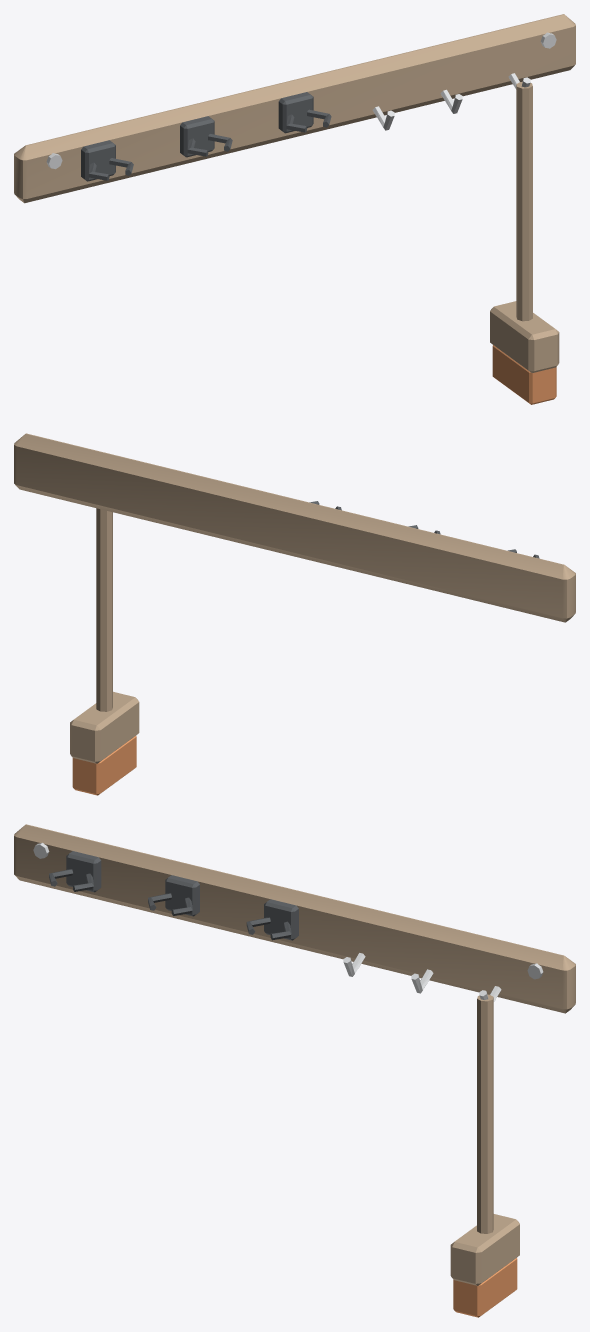
File: home-appliances-and-utility-wall-tool-rail-2a203aad__14161.glb
3 renders of one model, top to bottom at view 1: azimuth 30°, elevation 25°; view 2: azimuth 150°, elevation 25°; view 3: azimuth 330°, elevation 25°, orthographic.
Visible parts, largest first — view 1: wall-tool-rail; view 2: wall-tool-rail; view 3: wall-tool-rail.
Boxes of the visible parts, left/top/right/bottom form: wall-tool-rail: left=14, top=14, right=575, bottom=404; wall-tool-rail: left=14, top=433, right=575, bottom=795; wall-tool-rail: left=14, top=824, right=575, bottom=1317.
Bounding box in the file's own units: 0.9 × 0.535 × 0.13.
